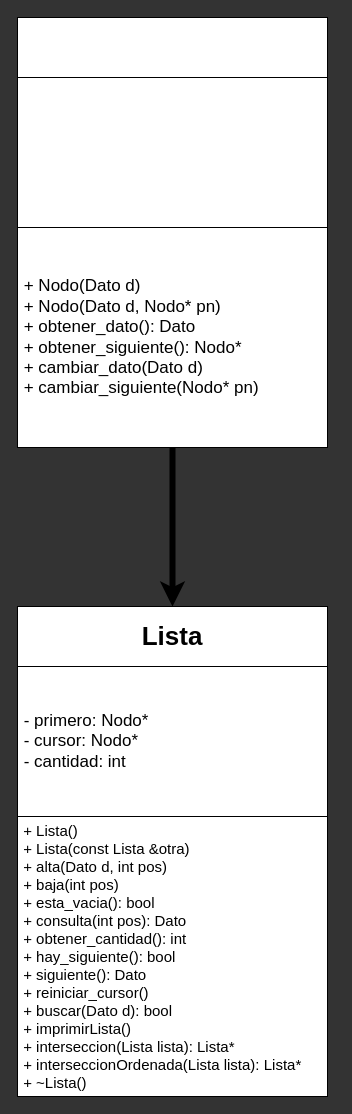
Some shapes in this 352 by 1114 pixel diagram are drawn without their labels. The shapes that lost their labels are listed below. From the top down, each one's box as (x1, y1, x2, y2) in pixels, then its label:
(16, 16, 328, 78): Nodo
(16, 76, 328, 228): - dato: Dato - siguiente: Nodo*
